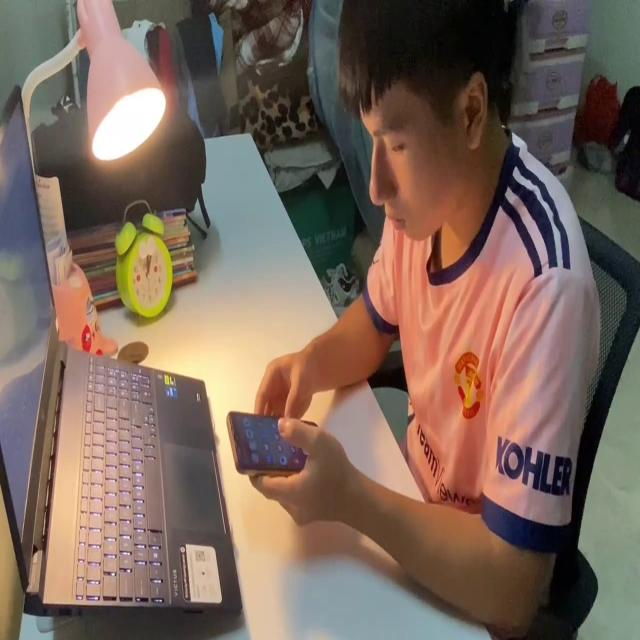laptop: (0, 78, 247, 630)
phone: (224, 405, 318, 479)
student: (252, 0, 596, 640)
